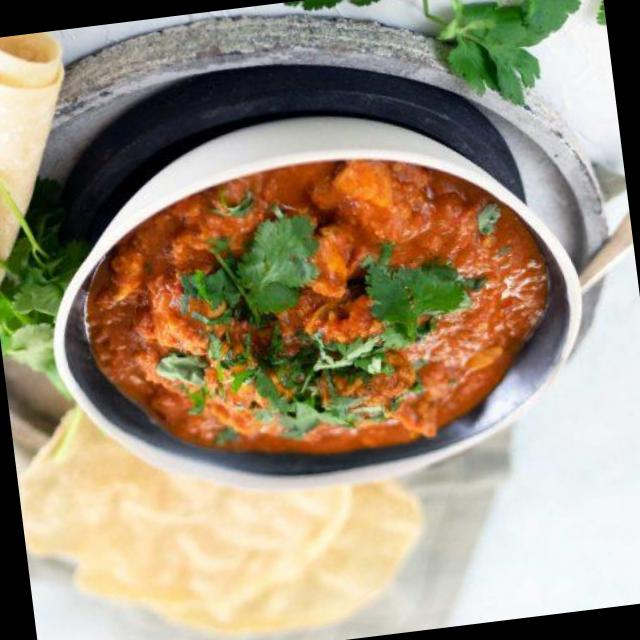chicken: (118, 156, 536, 457)
